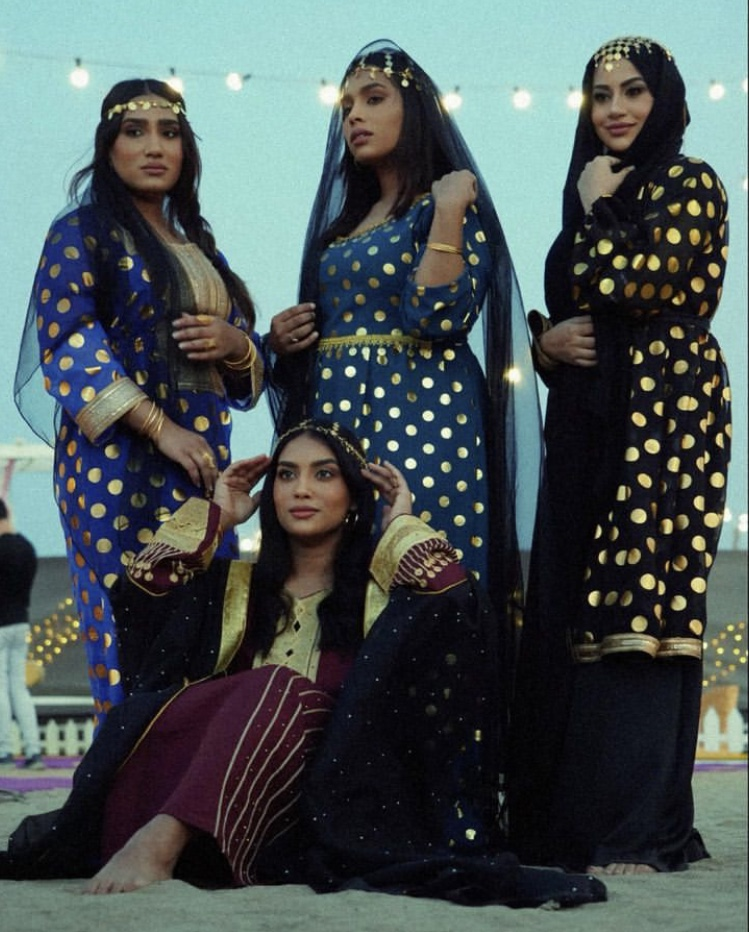Saudi_Founding_Day: (1, 417, 609, 908), (260, 37, 552, 684), (517, 35, 735, 881), (14, 77, 268, 769)
